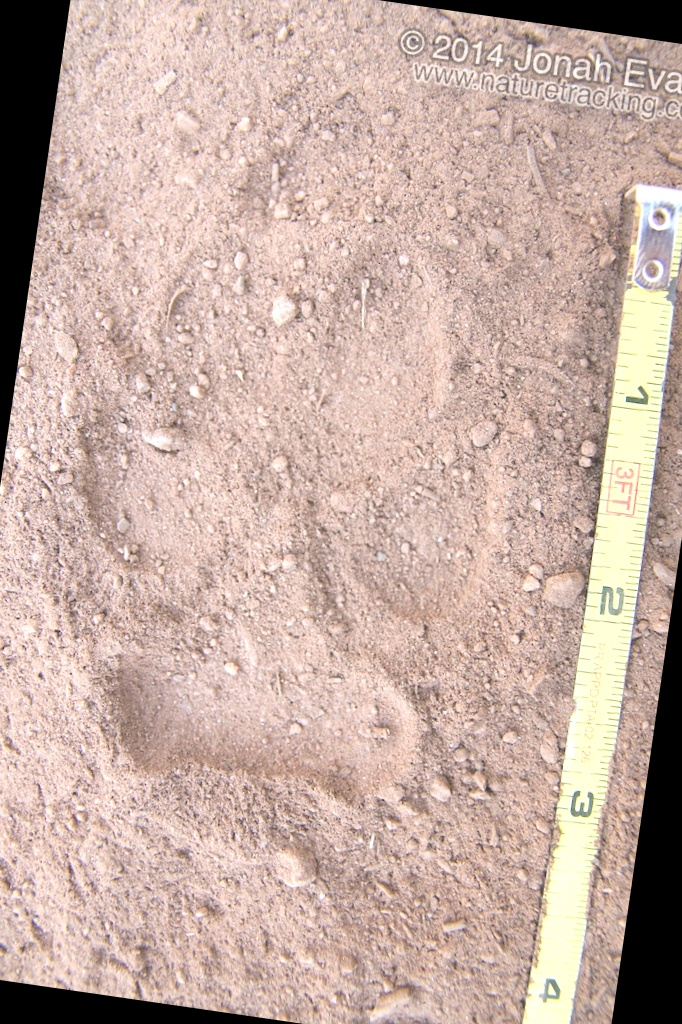coyote: (27, 192, 538, 822)
